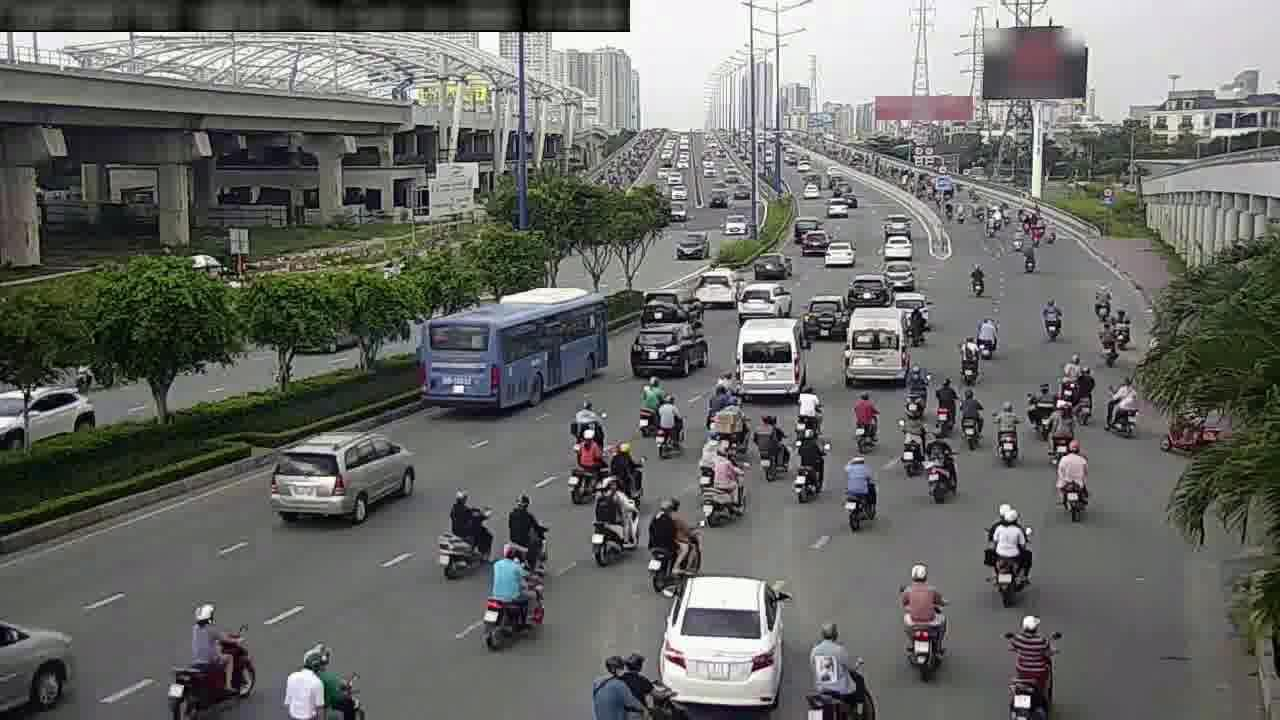car: (271, 425, 416, 521), (664, 581, 779, 698), (3, 599, 67, 720), (628, 329, 704, 379), (798, 293, 850, 339), (692, 268, 738, 307), (641, 286, 688, 324), (741, 276, 785, 316), (852, 268, 890, 306), (750, 246, 786, 280), (881, 232, 913, 263), (889, 257, 918, 291), (797, 226, 827, 256)
motorbike: (172, 597, 257, 713), (479, 536, 545, 648), (804, 614, 869, 719), (897, 550, 950, 677), (979, 488, 1036, 605), (1005, 594, 1060, 712), (644, 491, 701, 596), (433, 484, 493, 583), (280, 649, 367, 716), (594, 637, 672, 709), (587, 462, 640, 567), (501, 488, 552, 578), (700, 437, 749, 528), (1050, 438, 1095, 525), (787, 420, 828, 508), (921, 422, 962, 506), (752, 404, 792, 486), (839, 455, 879, 532), (895, 403, 930, 481), (653, 387, 689, 459), (990, 396, 1025, 470), (569, 434, 607, 501), (1104, 373, 1139, 440), (847, 385, 880, 449), (956, 382, 987, 449), (714, 394, 749, 450), (631, 372, 662, 435), (1047, 395, 1078, 458), (791, 376, 822, 436), (1027, 375, 1055, 437), (900, 364, 929, 420), (1070, 367, 1098, 425), (931, 373, 956, 433), (954, 331, 981, 384), (973, 308, 1001, 359), (1054, 356, 1080, 409), (1038, 293, 1064, 341), (1096, 319, 1120, 366), (965, 256, 989, 299), (1111, 303, 1133, 348), (906, 302, 927, 349), (1089, 282, 1113, 323), (1018, 239, 1038, 274)
passenger_car: (422, 291, 603, 400), (735, 309, 807, 397), (843, 301, 902, 387)
